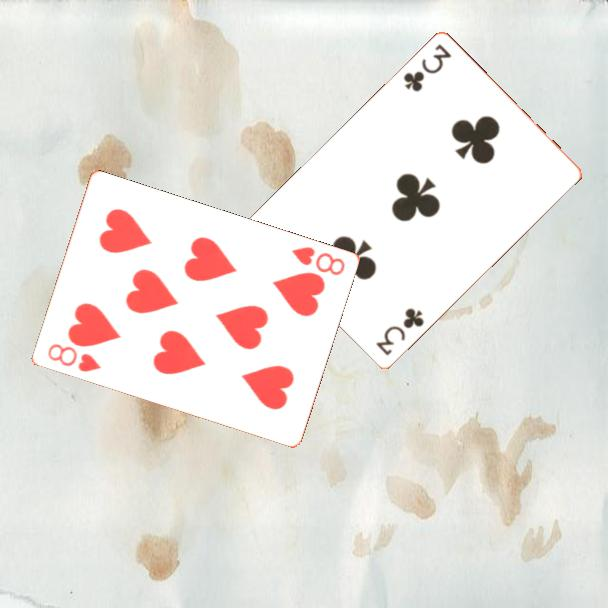c03: (372, 305, 427, 359), (400, 41, 454, 95)
h08: (44, 340, 104, 375), (288, 243, 347, 278)
